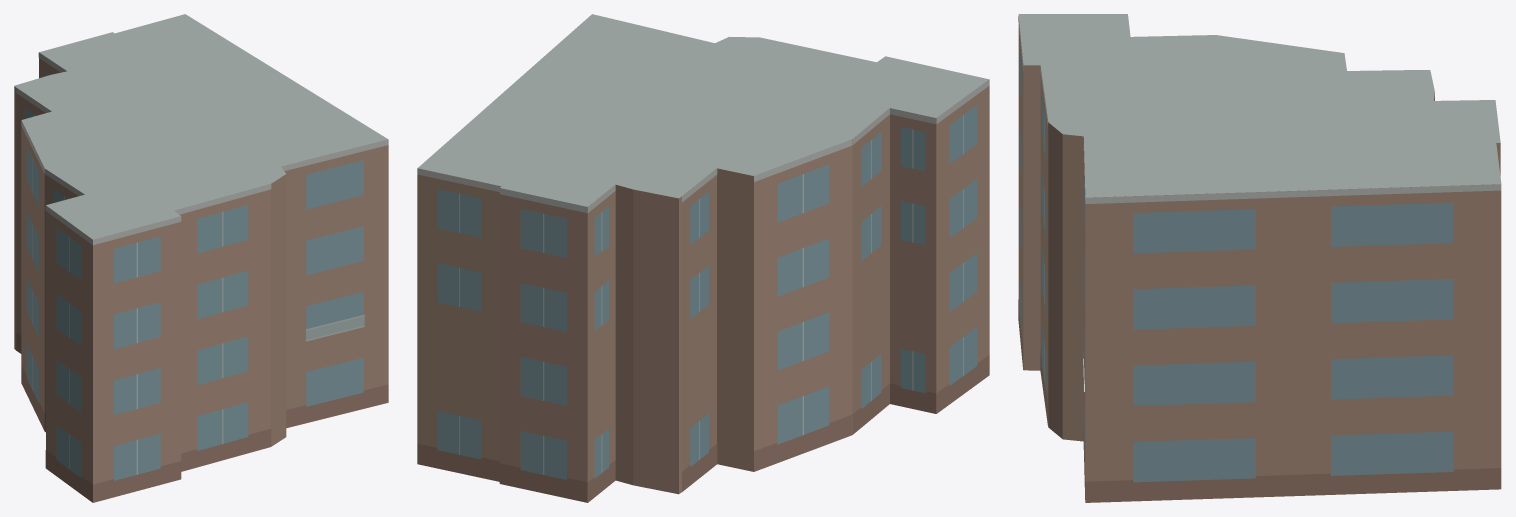
Rendered from survey-upis-32652544.glb.
The picture shows the model from 3 angles, left to right: view 1: azimuth 30°, elevation 25°; view 2: azimuth 150°, elevation 25°; view 3: azimuth 270°, elevation 25°; orthographic projection. The views are drawn at different scales.
Parts seen in each view (by area): view 1: survey-upis-32652544.tmp; view 2: survey-upis-32652544.tmp; view 3: survey-upis-32652544.tmp.
Part boxes in pixels (bbox=[...]): survey-upis-32652544.tmp: bbox=[14, 14, 388, 502]; survey-upis-32652544.tmp: bbox=[417, 14, 989, 502]; survey-upis-32652544.tmp: bbox=[1018, 14, 1501, 502].
Size of the model in its own units: 14.99 by 11.6 by 16.65.
